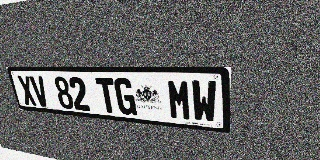2: (68, 77, 90, 111)
8: (53, 76, 75, 110)
G: (113, 78, 137, 116)
M: (167, 79, 192, 121)
T: (95, 77, 118, 114)
V: (29, 76, 50, 107)
W: (191, 80, 217, 123)
X: (17, 76, 37, 106)
